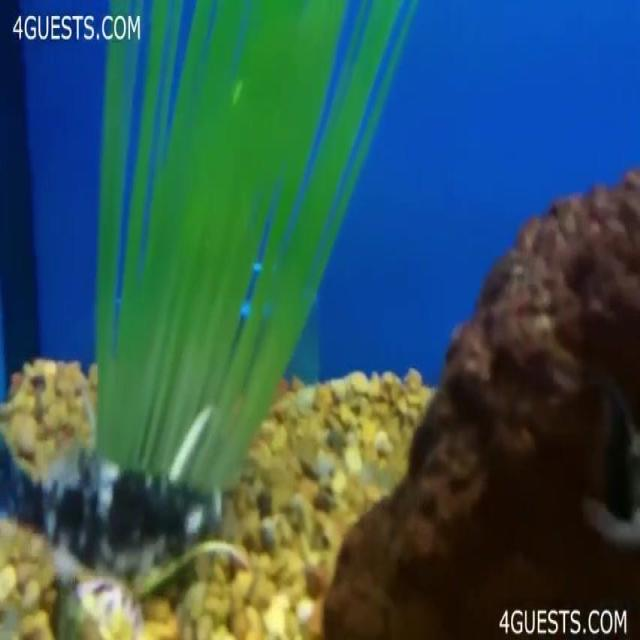PlatyFish: (0, 436, 231, 588)
